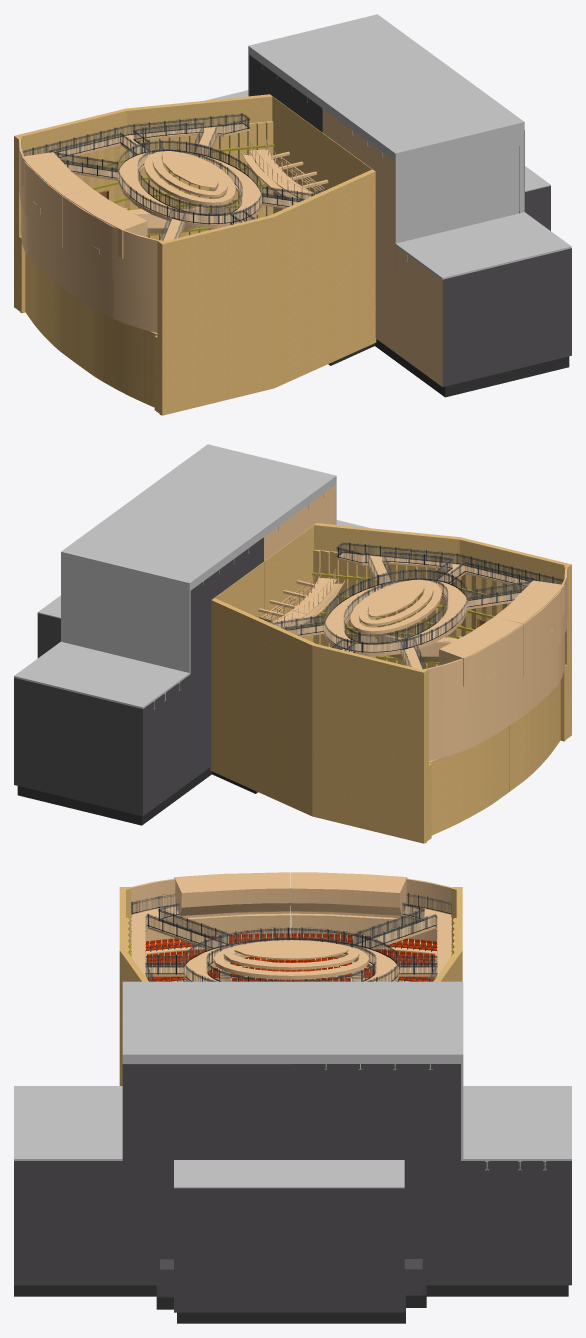
The model's file is woori.glb.
The picture shows the model from 3 angles, top to bottom: view 1: azimuth 30°, elevation 25°; view 2: azimuth 150°, elevation 25°; view 3: azimuth 270°, elevation 25°; orthographic projection. The views are drawn at different scales.
Visible parts, largest first — view 1: root; view 2: root; view 3: root.
Boxes of the visible parts, left/top/right/bottom form: root: left=14, top=14, right=571, bottom=415; root: left=14, top=444, right=571, bottom=843; root: left=14, top=872, right=571, bottom=1323.
Bounding box in the file's own units: 50.62 × 23.22 × 48.28.
17 materials, 17 textured.
